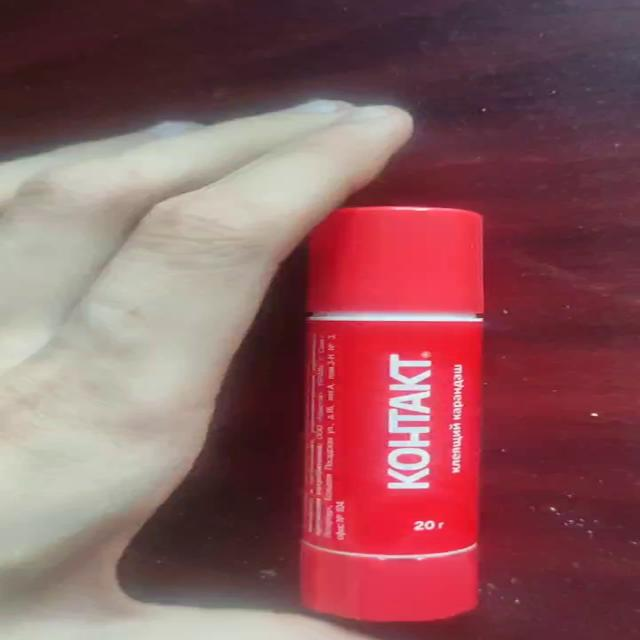glue: (297, 204, 484, 622)
